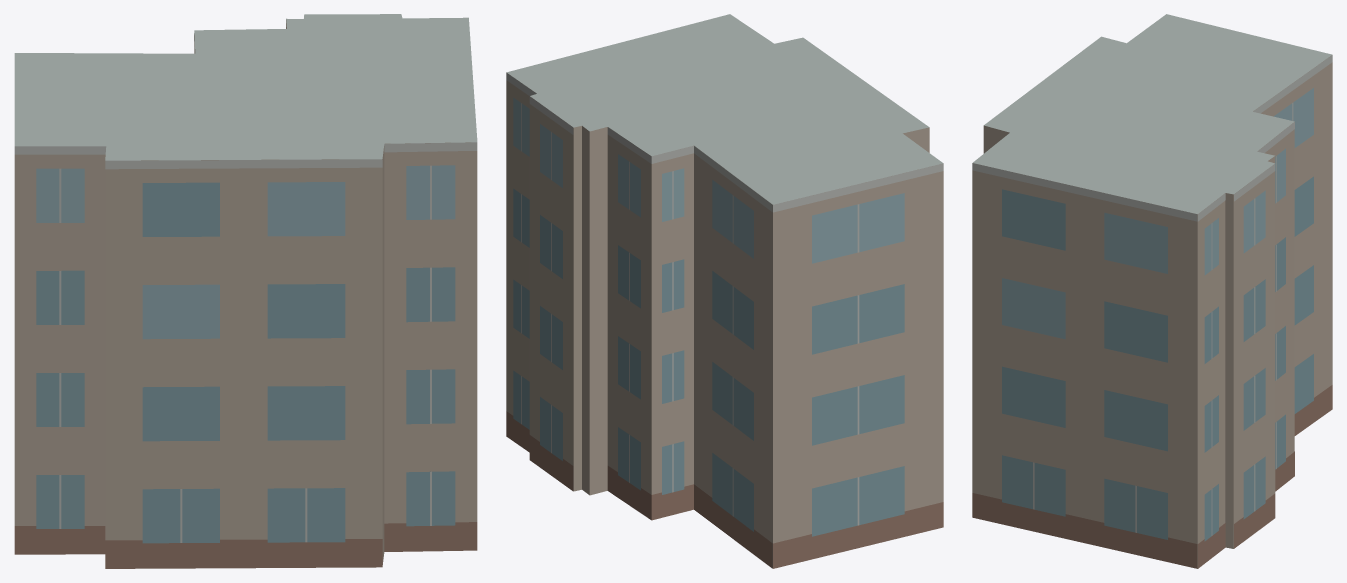
File: survey-upis-32879957.glb
3 renders of one model, left to right at view 1: azimuth 30°, elevation 25°; view 2: azimuth 150°, elevation 25°; view 3: azimuth 270°, elevation 25°, orthographic. The views are drawn at different scales.
Parts seen in each view (by area): view 1: survey-upis-32879957.tmp; view 2: survey-upis-32879957.tmp; view 3: survey-upis-32879957.tmp.
Part boxes in pixels (left/top/right/bottom): survey-upis-32879957.tmp: left=14, top=14, right=477, bottom=568; survey-upis-32879957.tmp: left=506, top=14, right=943, bottom=568; survey-upis-32879957.tmp: left=972, top=14, right=1332, bottom=568.
Size of the model in its own units: 14.06 by 11.6 by 10.69.
